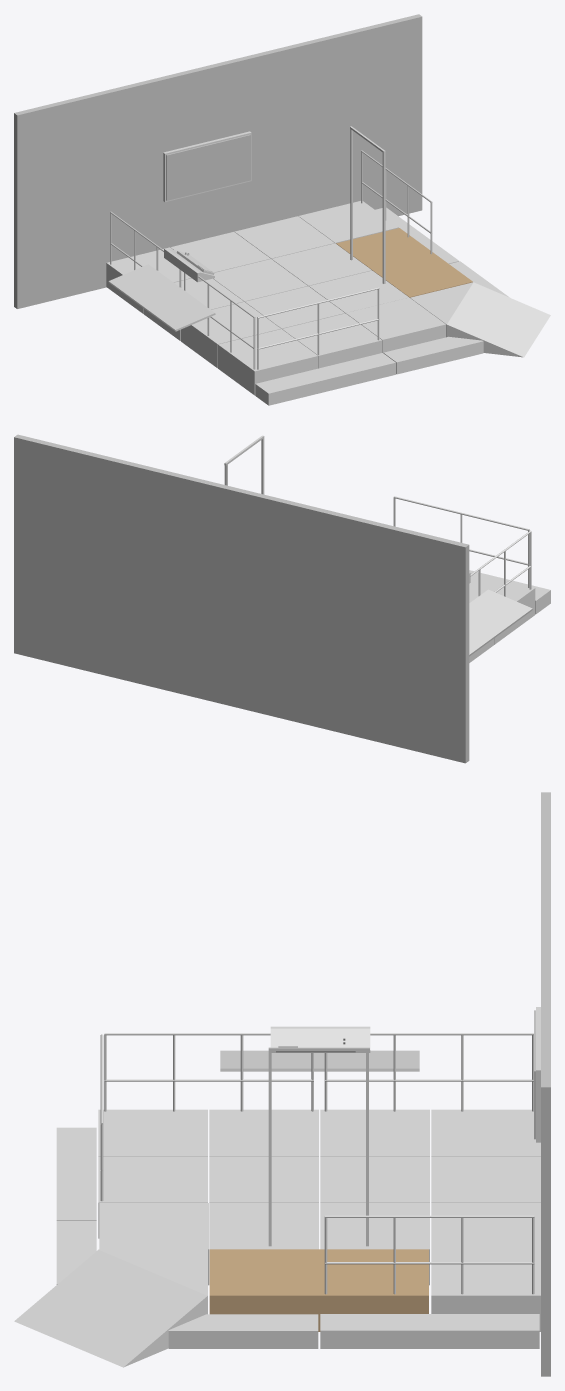
File: VR_Stage2.fbx
The picture shows the model from 3 angles, top to bottom: view 1: azimuth 30°, elevation 25°; view 2: azimuth 150°, elevation 25°; view 3: azimuth 270°, elevation 25°; orthographic projection. The views are drawn at different scales.
Parts seen in each view (by area): view 1: Cube.022, Cube, Cube.009, Cube.029, Cube.012, Cube.019, Cube.031, Cube.015, Cube.013, Cube.003, Cube.007, Cube.008 (+13 smaller); view 2: Cube.022, Cube.031, Cube.012, Cube.019; view 3: Cube.009, Cube, Cube.017, Cube.006, Cube.022, Cube.015, Cube.012, Cube.003, Cube.005, Cube.013, Cube.011, Cube.000 (+13 smaller).
Boxes of the visible parts, x1,y1,x2,y2 form: Cube.022: [14, 14, 422, 308]; Cube: [447, 282, 550, 357]; Cube.009: [336, 228, 472, 297]; Cube.029: [166, 134, 250, 200]; Cube.012: [218, 329, 318, 395]; Cube.019: [255, 353, 395, 405]; Cube.031: [108, 264, 215, 331]; Cube.015: [345, 297, 446, 352]; Cube.013: [282, 313, 382, 368]; Cube.003: [181, 302, 280, 368]; Cube.007: [235, 216, 334, 258]; Cube.008: [272, 243, 371, 286]; Cube.022: [14, 434, 469, 763]; Cube.031: [469, 589, 532, 656]; Cube.012: [469, 572, 535, 644]; Cube.019: [469, 570, 550, 614]; Cube.009: [209, 1249, 428, 1331]; Cube: [14, 1249, 207, 1367]; Cube.017: [320, 1314, 539, 1348]; Cube.006: [431, 1249, 540, 1331]; Cube.022: [541, 792, 550, 1376]; Cube.015: [99, 1203, 208, 1285]; Cube.012: [98, 1109, 207, 1156]; Cube.003: [209, 1109, 318, 1156]; Cube.005: [431, 1156, 540, 1202]; Cube.013: [98, 1156, 207, 1238]; Cube.011: [320, 1109, 429, 1156]; Cube.000: [209, 1203, 318, 1284].
Size of the model in its own units: 700 by 320 by 539.
